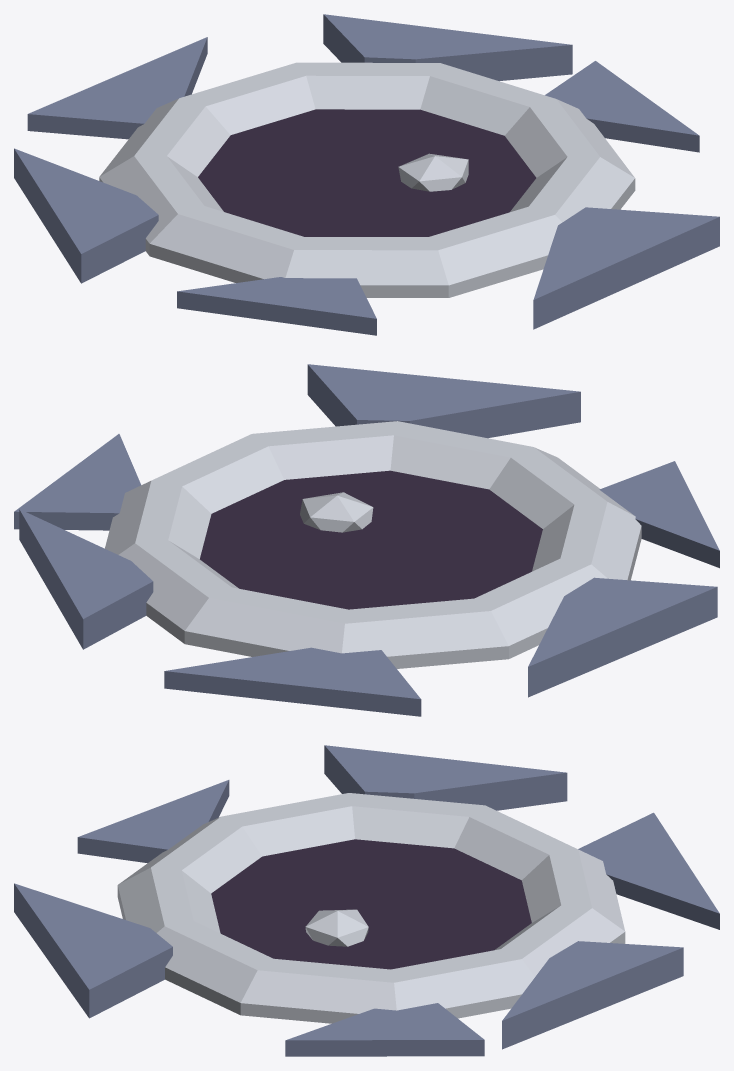
File: crater-m-moon.glb
The picture shows the model from 3 angles, top to bottom: view 1: azimuth 30°, elevation 25°; view 2: azimuth 150°, elevation 25°; view 3: azimuth 270°, elevation 25°; orthographic projection. The views are drawn at different scales.
Parts seen in each view (by area): view 1: crater-m-moon; view 2: crater-m-moon; view 3: crater-m-moon.
Part boxes in pixels (x1,y1,x2,y2): crater-m-moon: (14, 14, 719, 335); crater-m-moon: (14, 364, 719, 716); crater-m-moon: (14, 745, 719, 1056).
Size of the model in its own units: 1.48 by 0.1032 by 1.56.
